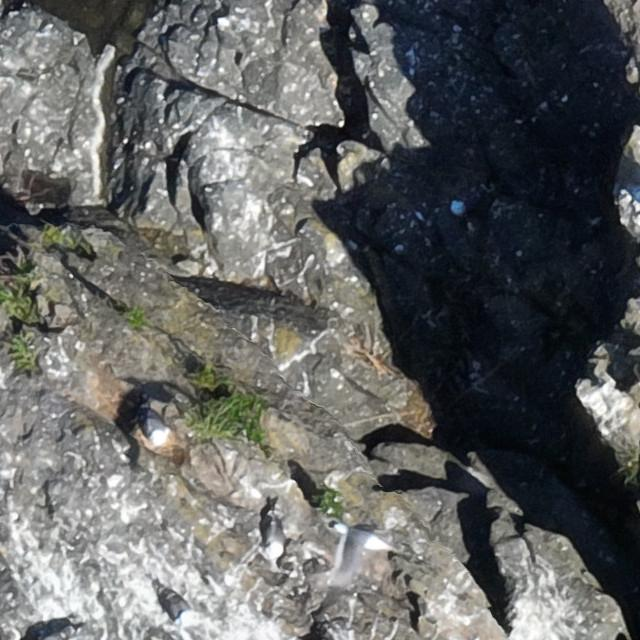F: (331, 512, 393, 580)
umineko: (162, 590, 196, 626), (141, 406, 170, 448), (266, 522, 282, 556)
